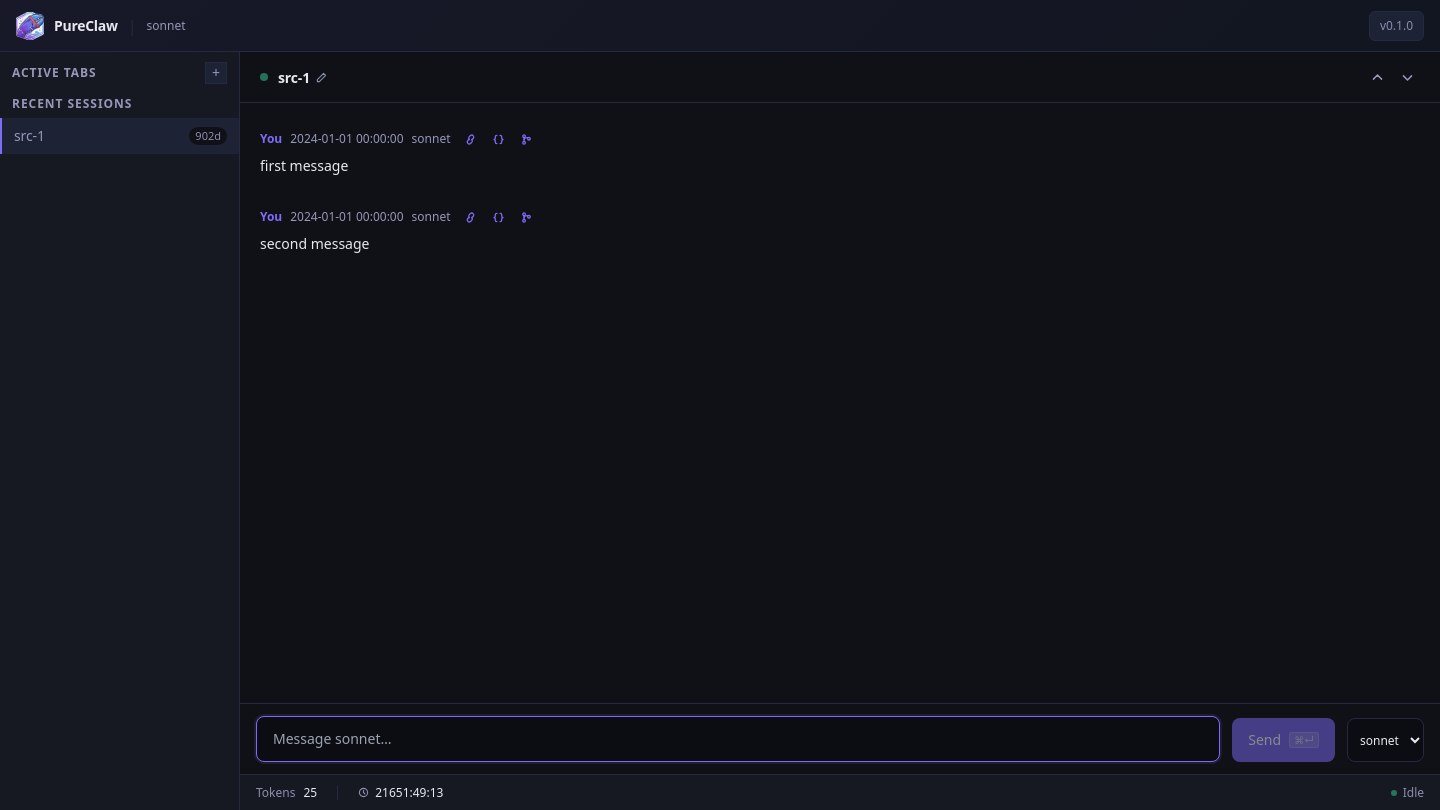
Test: App branch draft flow › D12b: the prefix message text is present in the DOM while in compose mode (selectedId === null)
# Branch from the SECOND row → prefix includes both rows.
Click the 2nd button named "branch session from here" at x=526, y=217, box top-left (514, 205), bottom-right (538, 229)
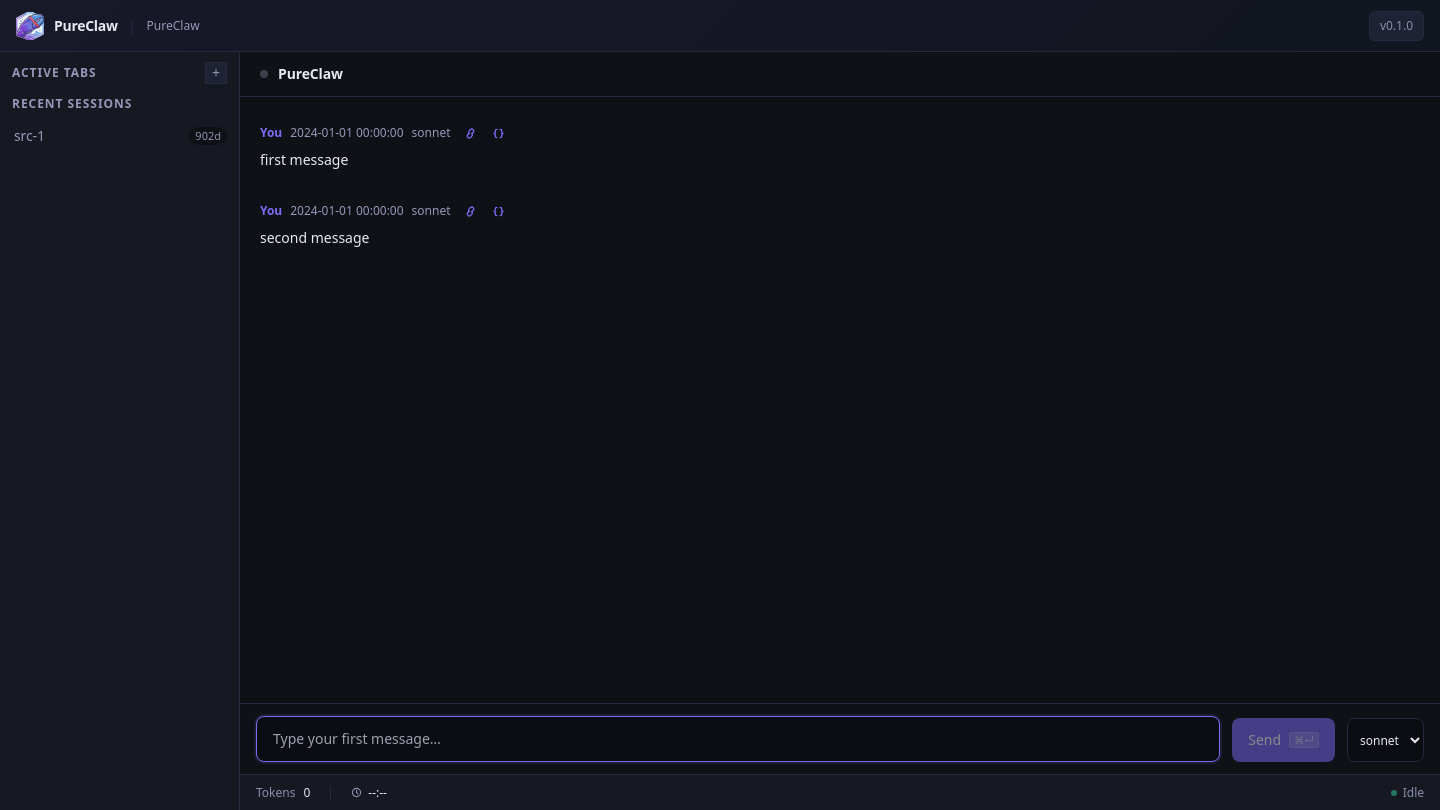
Expected: the text "first message" is shown, top-left (260, 150), bottom-right (348, 169)
Expected: the text box with placeholder "Type your first message…" is shown, top-left (256, 716), bottom-right (1220, 762)
